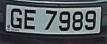7: (43, 10, 59, 32)
8: (71, 10, 84, 33)
9: (84, 9, 97, 33), (58, 10, 71, 33)
E: (22, 7, 38, 32)
G: (11, 8, 23, 32)
